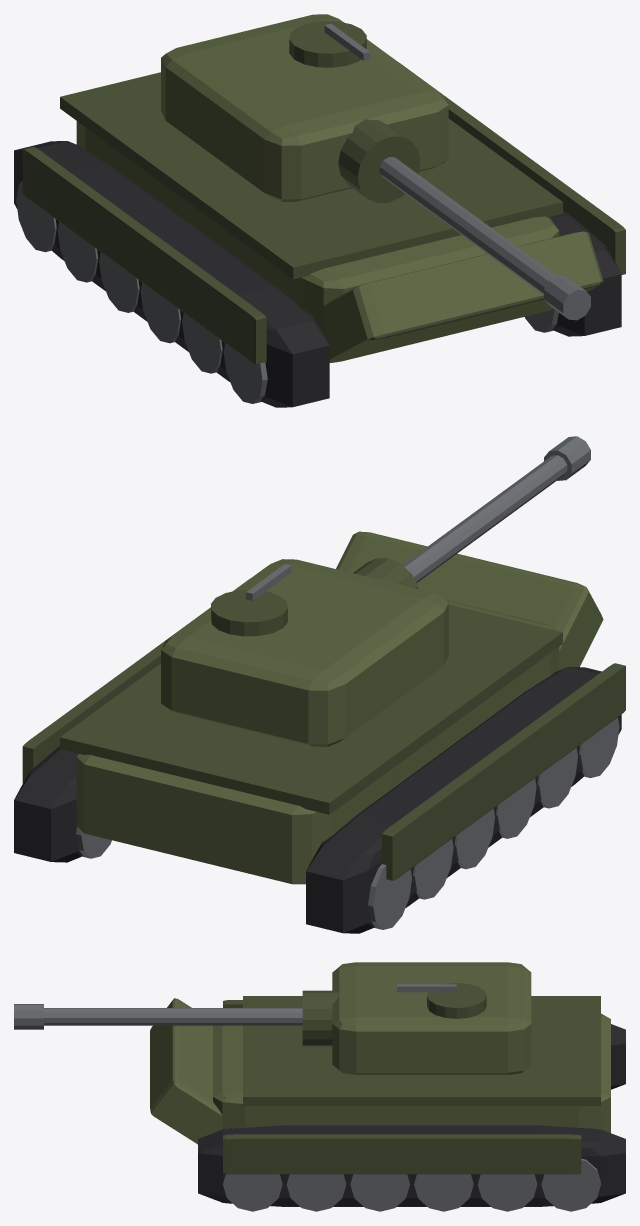
The model's file is tank.glb.
The picture shows the model from 3 angles, top to bottom: view 1: azimuth 30°, elevation 25°; view 2: azimuth 150°, elevation 25°; view 3: azimuth 270°, elevation 25°; orthographic projection. The views are drawn at different scales.
Visible parts, largest first — view 1: turret, deck, glacis, track, skirt, hull, gun, skirt.001, mantlet, track.001, hatch, wheel (+8 smaller); view 2: turret, deck, hull, track, skirt, glacis, track.001, gun, skirt.001, hatch, wheel.005, wheel (+7 smaller); view 3: deck, turret, skirt.001, hull, track.001, glacis, gun, wheel.011, wheel.006, wheel.008, wheel.009, wheel.007 (+6 smaller).
Part boxes in pixels (x1,y1,x2,y2): turret: [161, 14, 448, 202]; deck: [60, 72, 562, 279]; glacis: [323, 231, 603, 362]; track: [14, 141, 329, 407]; skirt: [22, 146, 266, 364]; hull: [76, 121, 559, 331]; gun: [379, 157, 556, 294]; skirt.001: [400, 63, 625, 274]; mantlet: [338, 119, 420, 203]; track.001: [548, 210, 621, 336]; hatch: [289, 21, 366, 67]; wheel: [223, 343, 267, 403]; turret: [161, 559, 448, 746]; deck: [60, 604, 562, 814]; hull: [76, 599, 559, 884]; track: [306, 666, 621, 933]; skirt: [382, 663, 625, 880]; glacis: [336, 531, 603, 670]; track.001: [14, 746, 82, 862]; gun: [402, 455, 567, 582]; skirt.001: [22, 579, 248, 783]; hatch: [211, 590, 287, 636]; wheel.005: [368, 864, 411, 929]; wheel: [579, 717, 619, 777]; deck: [243, 996, 600, 1105]; turret: [332, 962, 531, 1074]; skirt.001: [223, 1134, 581, 1174]; hull: [213, 1013, 610, 1132]; track.001: [198, 1125, 625, 1206]; glacis: [150, 998, 222, 1144]; gun: [44, 1008, 302, 1025]; wheel.011: [541, 1158, 600, 1211]; wheel.006: [223, 1174, 282, 1211]; wheel.008: [350, 1174, 409, 1211]; wheel.009: [414, 1174, 473, 1211]; wheel.007: [286, 1174, 346, 1211].
Size of the model in its own units: 3.3 by 1.94 by 6.15.
